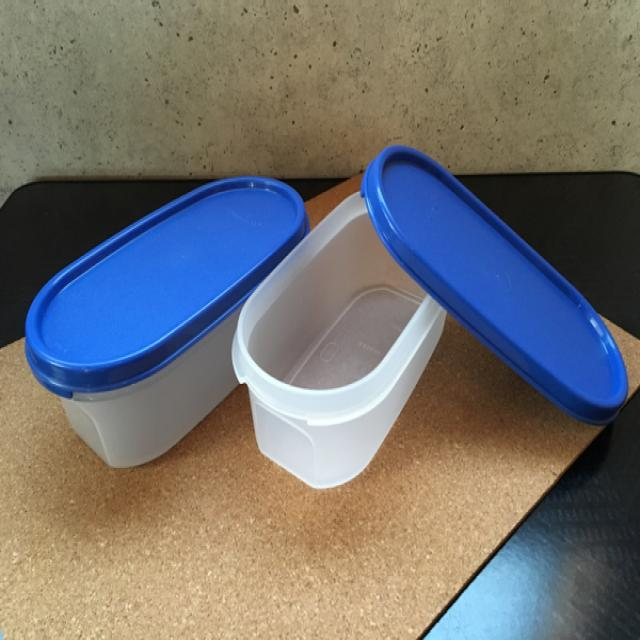plastic: (23, 147, 631, 488)
